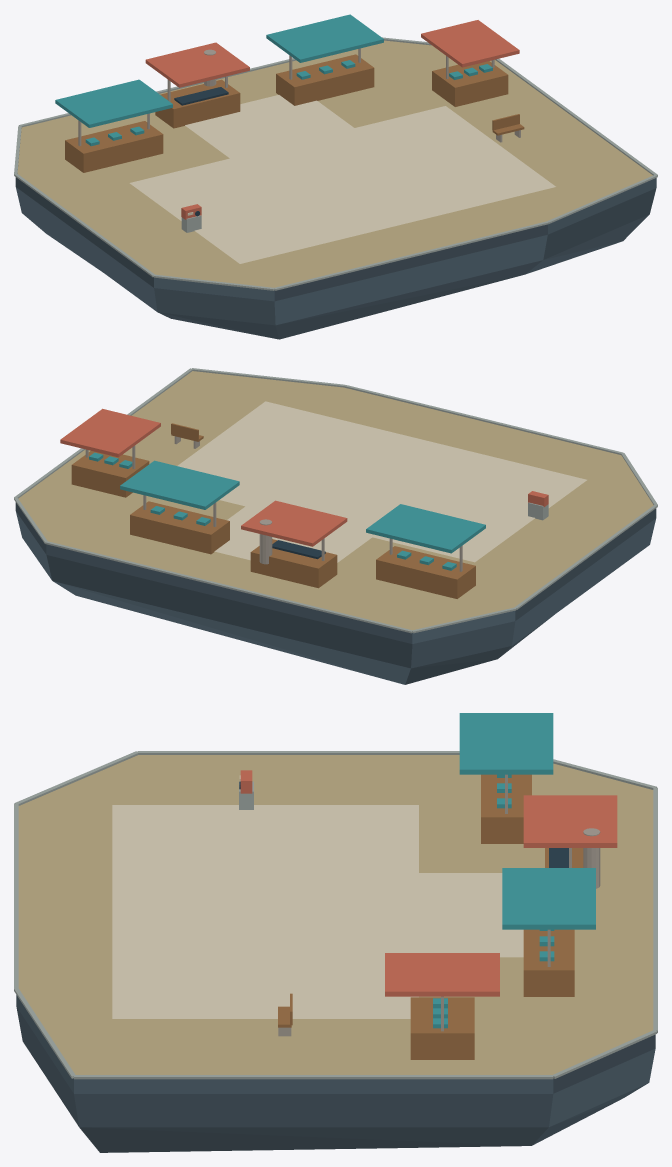
Rendered from fi06-night-market.glb.
3 views of the same model, one above another, from view 1: azimuth 30°, elevation 25°; view 2: azimuth 150°, elevation 25°; view 3: azimuth 270°, elevation 25° (orthographic). The views are drawn at different scales.
Visible parts, largest first — view 1: GEO_ground, GEO_forecourt, GEO_foundation, LAND_0_stall, LAND_2_stall, LAND_1_grill, LAND_3_stall, GEO_rim, PROP_bench, PROP_radio; view 2: GEO_ground, GEO_forecourt, GEO_foundation, LAND_0_stall, LAND_2_stall, LAND_1_grill, GEO_rim, LAND_3_stall, PROP_radio, PROP_bench; view 3: GEO_ground, GEO_forecourt, GEO_foundation, LAND_2_stall, LAND_3_stall, LAND_0_stall, GEO_rim, LAND_1_grill.
Boxes of the visible parts, x1,y1,x2,y2 form: GEO_ground: [17, 40, 652, 287]; GEO_forecourt: [129, 95, 555, 263]; GEO_foundation: [15, 177, 656, 339]; LAND_0_stall: [55, 79, 172, 172]; LAND_2_stall: [266, 14, 383, 105]; LAND_1_grill: [145, 42, 249, 128]; LAND_3_stall: [421, 20, 519, 106]; GEO_rim: [14, 37, 657, 290]; PROP_bench: [492, 114, 524, 142]; PROP_radio: [181, 204, 201, 232]; GEO_ground: [18, 371, 653, 630]; GEO_forecourt: [177, 401, 586, 562]; GEO_foundation: [15, 502, 656, 684]; LAND_0_stall: [366, 504, 485, 598]; LAND_2_stall: [120, 460, 239, 554]; LAND_1_grill: [241, 500, 347, 588]; GEO_rim: [14, 368, 657, 633]; LAND_3_stall: [60, 408, 160, 497]; PROP_radio: [528, 491, 548, 520]; PROP_bench: [171, 423, 203, 448]; GEO_ground: [18, 755, 653, 1074]; GEO_forecourt: [112, 805, 523, 1018]; GEO_foundation: [16, 995, 655, 1152]; LAND_2_stall: [502, 868, 595, 996]; LAND_3_stall: [385, 953, 499, 1059]; LAND_0_stall: [459, 713, 553, 843]; GEO_rim: [14, 751, 657, 1079]; LAND_1_grill: [523, 795, 617, 888].
Size of the model in its own units: 36.22 by 8.62 by 30.22.
